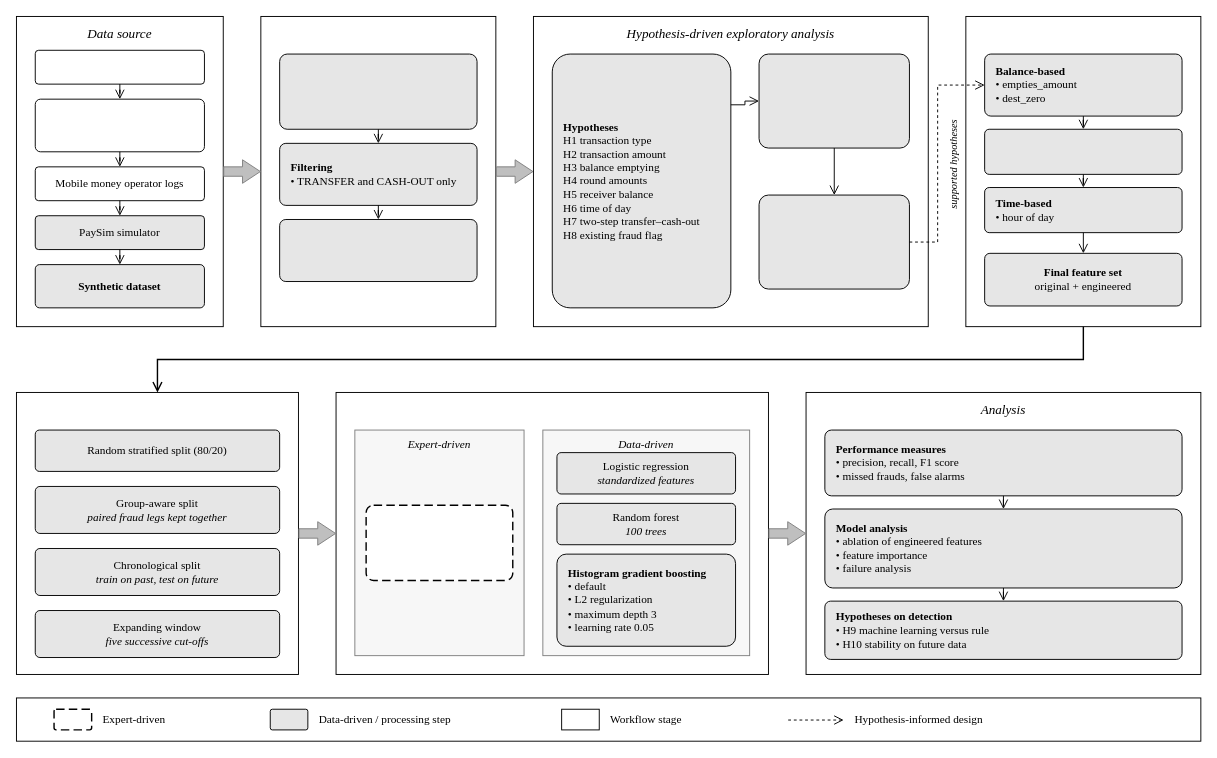
Some shapes in this 1217 by 758 pixel diagram are drawn without their labels. The box of each missing label's shape, as (x1, y1, x2, y2) in pixels:
Amount-based • is_whole: (984, 128, 1182, 174)
Balance rule fraud if amount equals sender balance: (365, 504, 513, 581)
Column removal • account identifiers • existing fraud flag: (279, 219, 477, 282)
Customer: (34, 49, 204, 84)
Data preparation: (260, 16, 496, 327)
Detection methods: (335, 392, 768, 674)
Evaluation protocols: (16, 392, 298, 674)
Feature engineering: (965, 16, 1201, 327)
Outcome • supported • partially supported • not supported: (758, 194, 909, 289)
Quality checks • missing values • duplicate rows • data types: (279, 53, 477, 129)
Testing • fraud vs legitimate rates • control comparisons • per transaction type: (758, 53, 909, 148)
Transaction request cash-in, cash-out, debit, payment, transfer: (34, 98, 204, 152)
